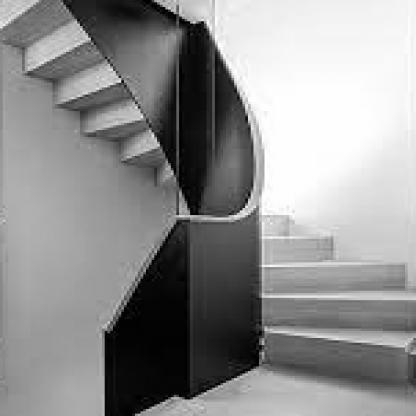stair: (241, 200, 416, 389)
